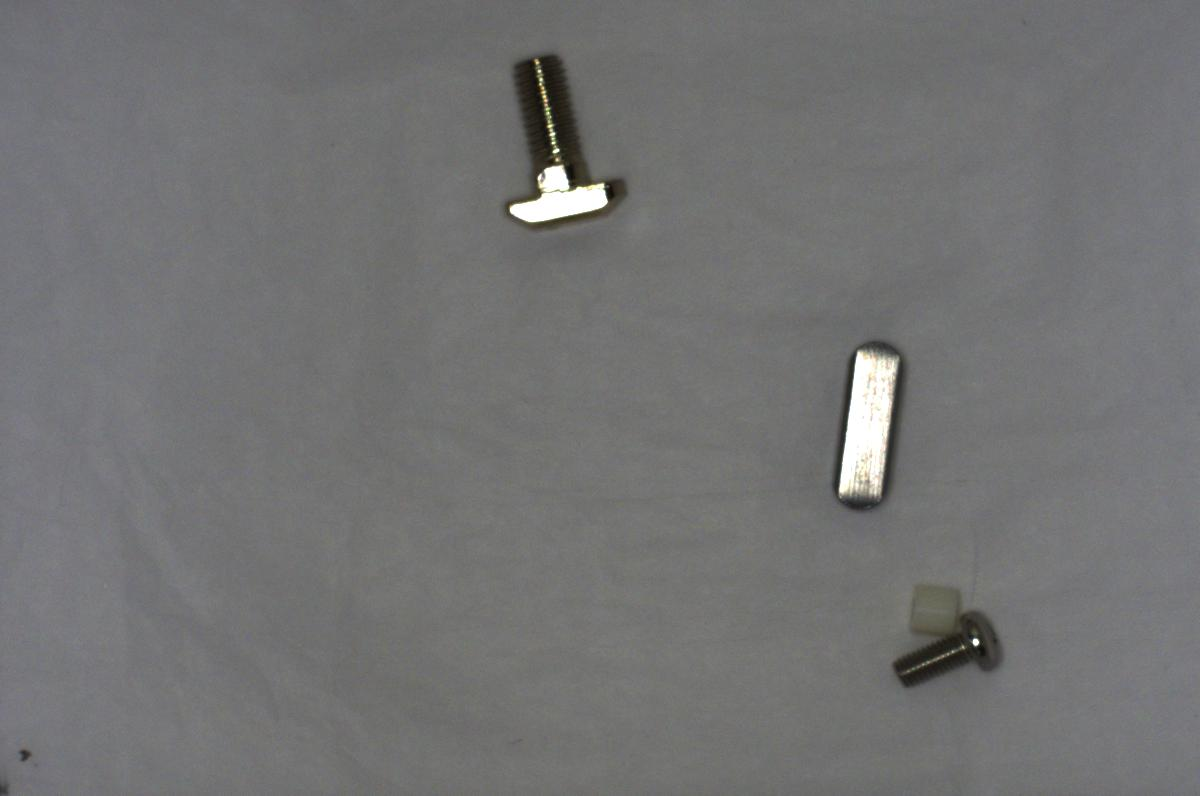Keybar: (831, 335, 908, 518)
Plastic cushion pillar: (899, 574, 968, 640)
Round head screw: (879, 605, 1010, 687)
T-shaped screw: (499, 46, 630, 234)
